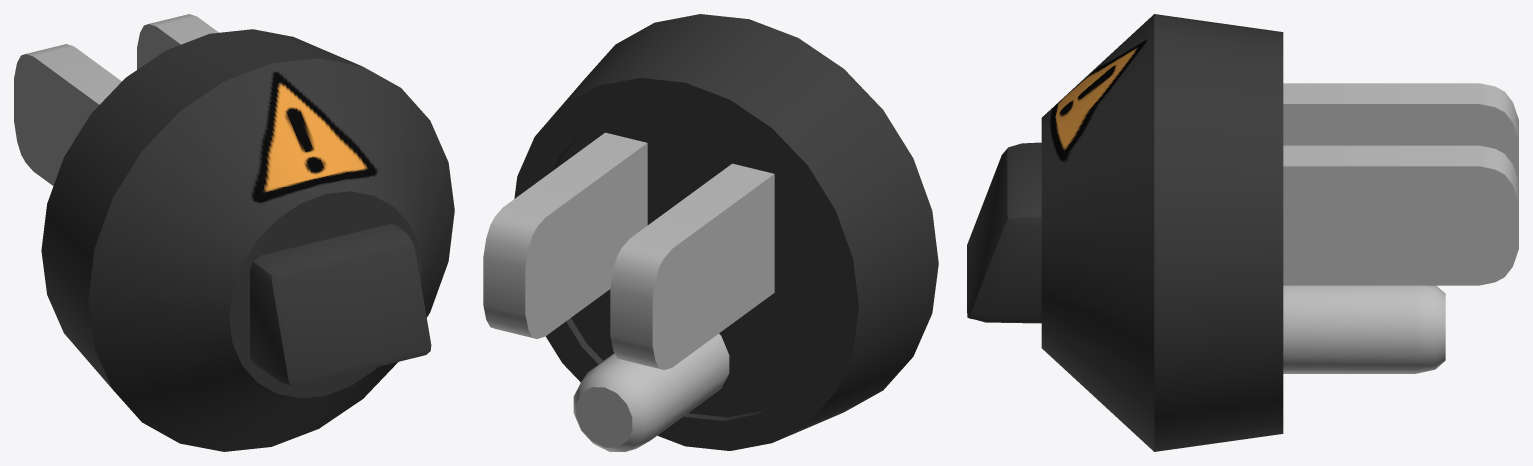
Rendered from Plug.fbx.
The picture shows the model from 3 angles, left to right: view 1: azimuth 30°, elevation 25°; view 2: azimuth 150°, elevation 25°; view 3: azimuth 270°, elevation 25°; orthographic projection. The views are drawn at different scales.
Visible parts, largest first — view 1: Plug LOD0; view 2: Plug LOD0; view 3: Plug LOD0.
Boxes of the visible parts, x1,y1,x2,y2 form: Plug LOD0: [14, 14, 454, 451]; Plug LOD0: [483, 14, 938, 451]; Plug LOD0: [967, 14, 1518, 451].
Size of what is drawn, in the model's own units: 130 by 130 by 163.
